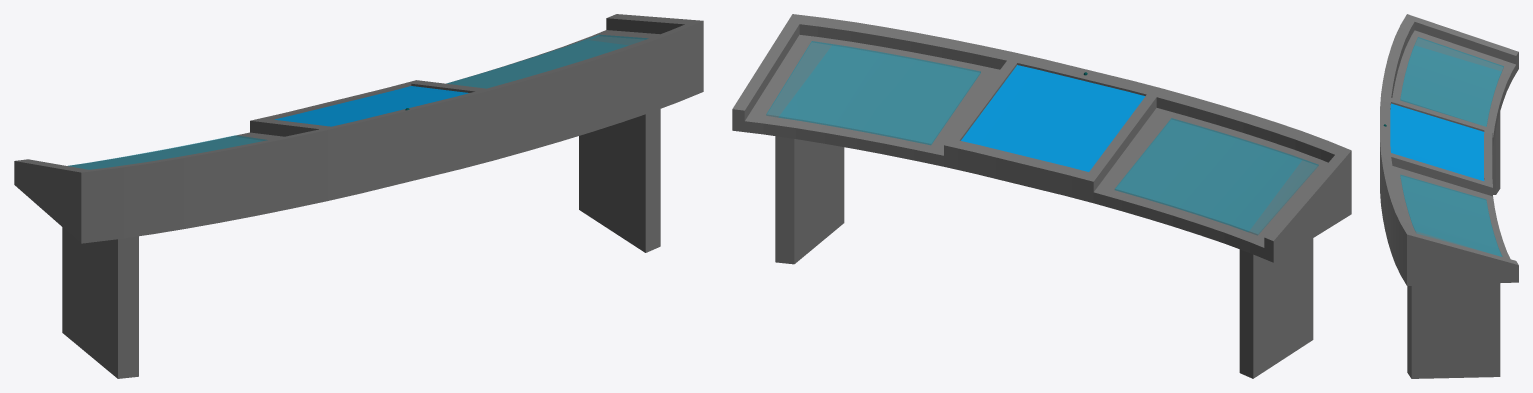
Rendered from Menu_prop.fbx.
3 views of the same model, side by side, from view 1: azimuth 30°, elevation 25°; view 2: azimuth 150°, elevation 25°; view 3: azimuth 270°, elevation 25° (orthographic). The views are drawn at different scales.
Parts seen in each view (by area): view 1: polySurface5, polySurface7, polySurface8; view 2: polySurface5, polySurface7, polySurface8; view 3: polySurface5, polySurface8, polySurface7.
Boxes of the visible parts, <box> form: polySurface5: <box>14,14,703,378</box>; polySurface7: <box>447,34,648,88</box>; polySurface8: <box>68,135,267,169</box>; polySurface5: <box>732,14,1351,378</box>; polySurface7: <box>766,41,980,145</box>; polySurface8: <box>1114,118,1318,235</box>; polySurface5: <box>1380,14,1518,378</box>; polySurface8: <box>1400,37,1503,126</box>; polySurface7: <box>1400,174,1502,256</box>.
Size of the model in its own units: 4.65 by 1.56 by 1.24.
